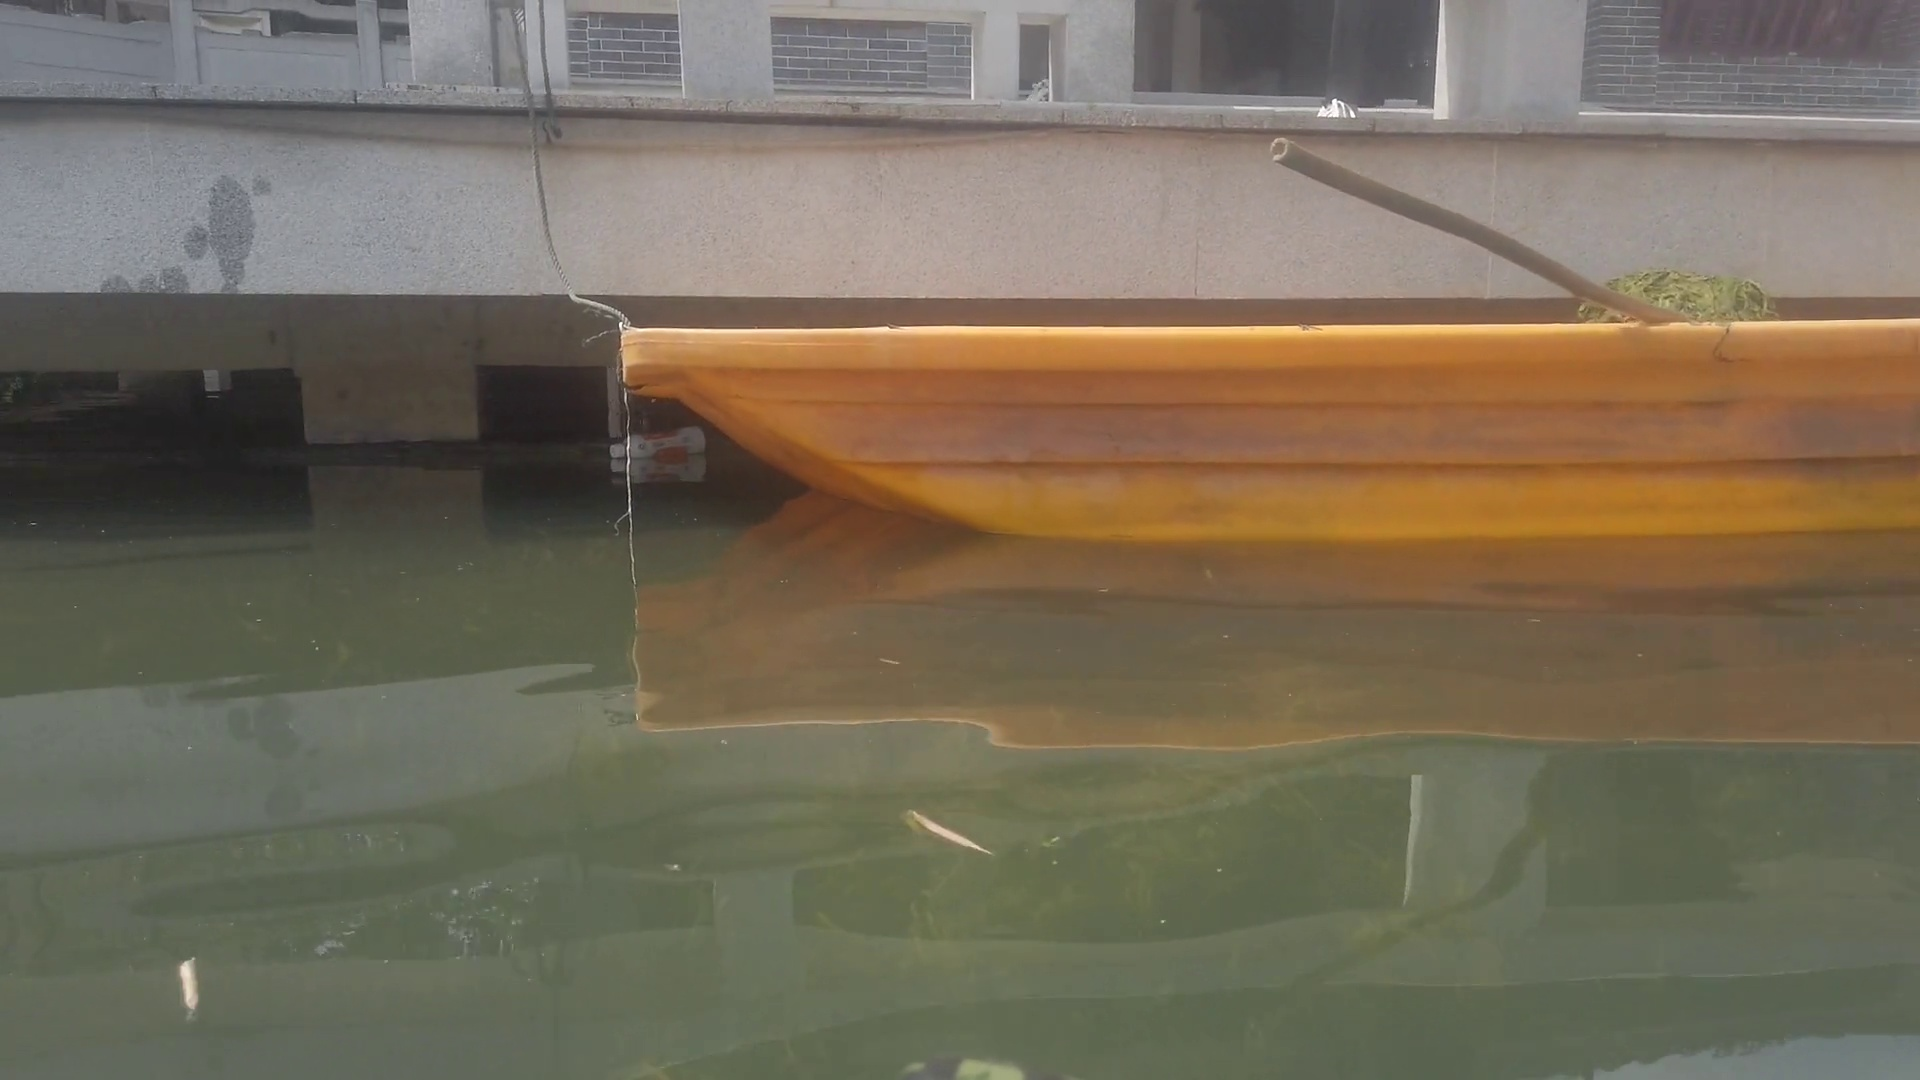bottle: (607, 425, 705, 458)
